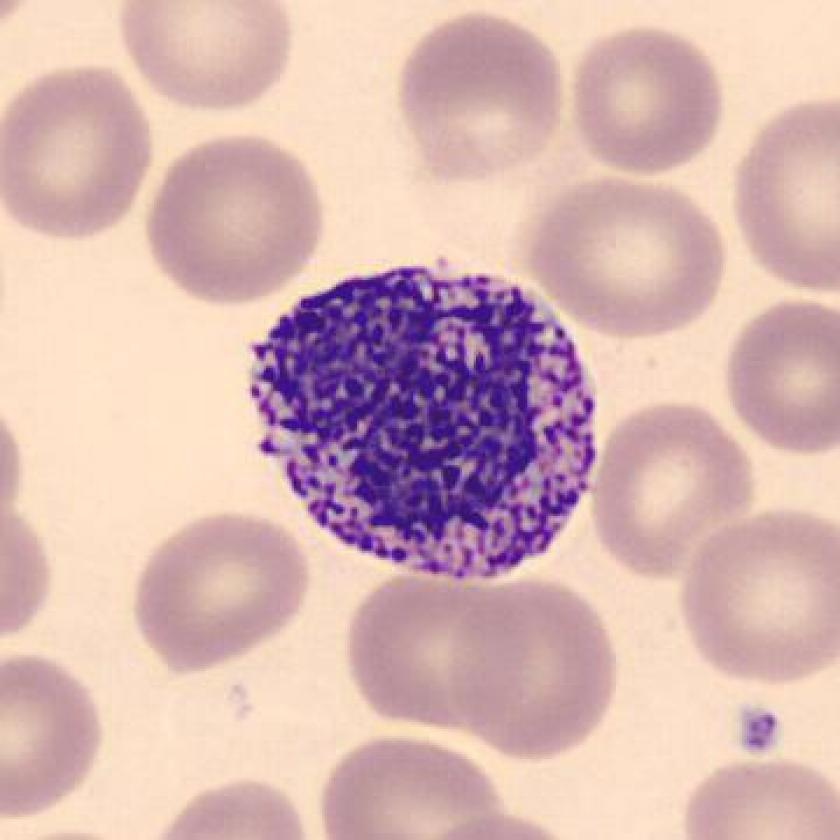basophil: (242, 249, 606, 594)
